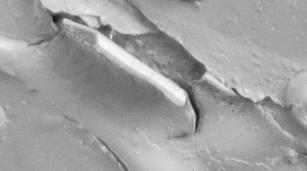crack: (0, 1, 307, 171)
